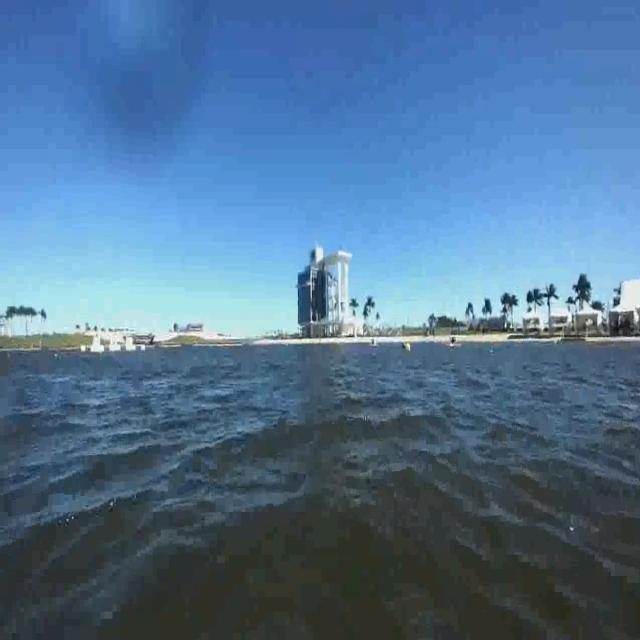yellow-buoy: (407, 342, 413, 354)
